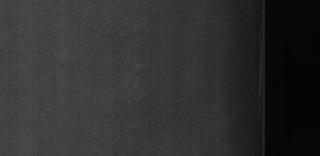silk spot: (110, 20, 162, 118), (248, 41, 262, 101)
